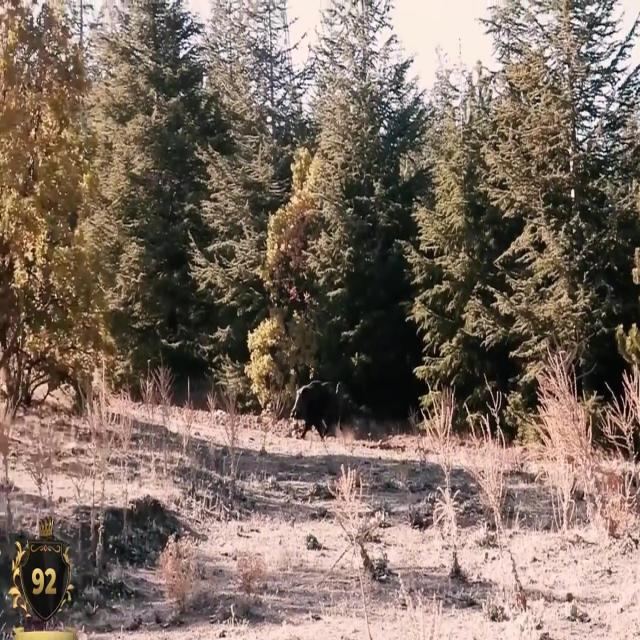pig: (286, 362, 362, 433)
